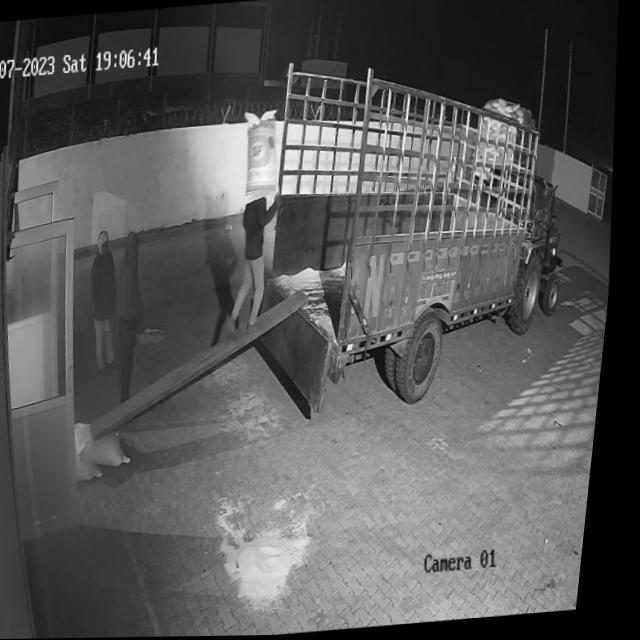sack: (239, 107, 287, 201), (80, 418, 142, 471)
